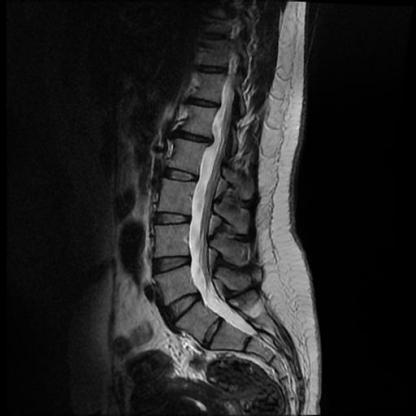Annular Disc Relaxationrotation: (167, 294, 204, 316), (210, 317, 222, 348)
Degenerative Disc Diseaserotation: (167, 294, 204, 316), (167, 166, 199, 186), (207, 317, 219, 348)
Disc Bulgerotation: (166, 166, 199, 186)
